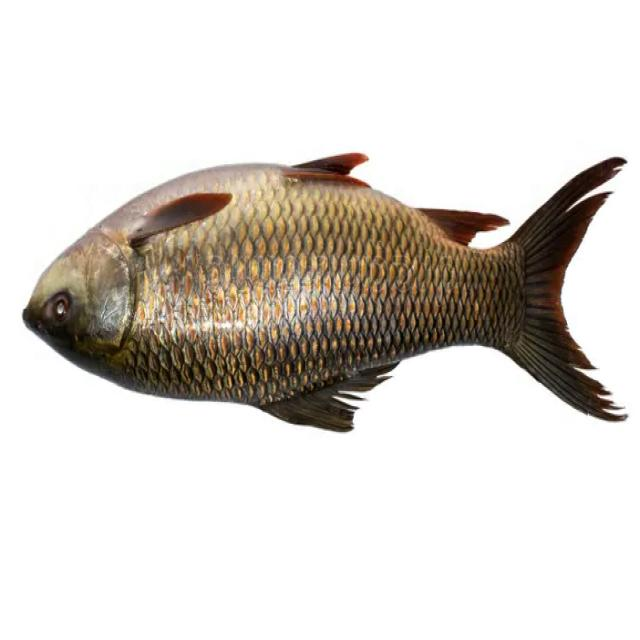Rohu: (21, 152, 628, 433)
